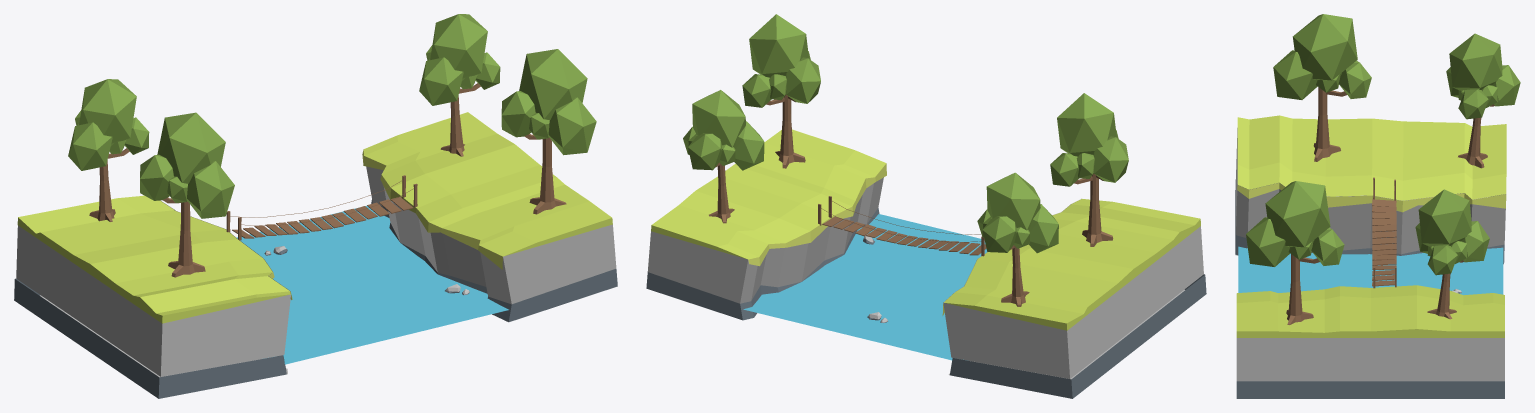
3 views of the same model, side by side, from view 1: azimuth 30°, elevation 25°; view 2: azimuth 150°, elevation 25°; view 3: azimuth 270°, elevation 25° (orthographic). The views are drawn at different scales.
Visible parts, largest first — view 1: Plane.001, Cube.045, Cube.041, Cube.044, Cube.040, Icosphere.001, Icosphere.011, Cube.046, Icosphere.003, Icosphere.008, Cube.042, Cube.043 (+4 smaller); view 2: Plane.001, Cube.045, Cube.041, Cube.044, Cube.040, Cube.046, Icosphere.001, Icosphere.011, Icosphere.003, Icosphere.008, Cube.042, Cube.043 (+4 smaller); view 3: Cube.045, Cube.041, Cube.040, Plane.001, Icosphere.001, Icosphere.011, Cube.044, Cube.042, Icosphere.008, Icosphere.003, Cube.047, Icosphere.012 (+4 smaller).
Boxes of the visible parts, <box> form: Plane.001: <box>236,205,508,364</box>; Cube.045: <box>17,195,290,323</box>; Cube.041: <box>363,112,612,256</box>; Cube.044: <box>16,202,290,377</box>; Cube.040: <box>366,166,616,304</box>; Icosphere.001: <box>501,49,596,155</box>; Icosphere.011: <box>140,112,234,218</box>; Cube.046: <box>14,278,286,398</box>; Icosphere.003: <box>419,14,500,105</box>; Icosphere.008: <box>68,79,149,170</box>; Cube.042: <box>371,199,617,322</box>; Cube.043: <box>362,149,502,269</box>; Plane.001: <box>743,214,987,360</box>; Cube.045: <box>944,199,1200,330</box>; Cube.041: <box>651,129,886,259</box>; Cube.044: <box>943,202,1203,379</box>; Cube.040: <box>647,177,883,303</box>; Cube.046: <box>950,274,1206,398</box>; Icosphere.001: <box>742,14,820,107</box>; Icosphere.011: <box>1050,93,1128,186</box>; Icosphere.003: <box>683,90,764,170</box>; Icosphere.008: <box>977,172,1058,253</box>; Cube.042: <box>646,207,879,320</box>; Cube.043: <box>748,163,886,266</box>; Cube.045: <box>1237,115,1506,200</box>; Cube.041: <box>1236,285,1504,337</box>; Cube.040: <box>1236,338,1504,381</box>; Plane.001: <box>1238,246,1503,295</box>; Icosphere.001: <box>1246,181,1344,266</box>; Icosphere.011: <box>1273,14,1371,99</box>; Cube.044: <box>1235,128,1505,264</box>; Cube.042: <box>1236,381,1504,398</box>; Icosphere.008: <box>1446,33,1520,119</box>; Icosphere.003: <box>1415,189,1489,275</box>; Cube.047: <box>1237,183,1506,212</box>; Icosphere.012: <box>1313,87,1346,161</box>.
Bounding box in the file's own units: 14.14 × 7.22 × 8.18.
